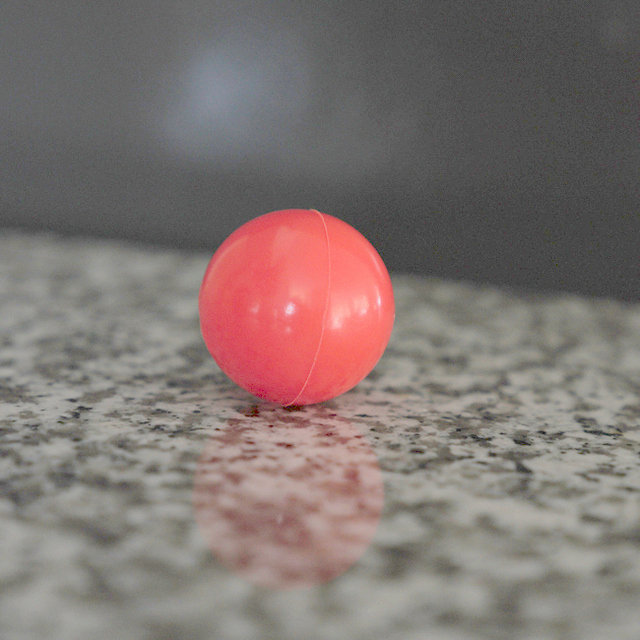Ball: (196, 209, 394, 408)
